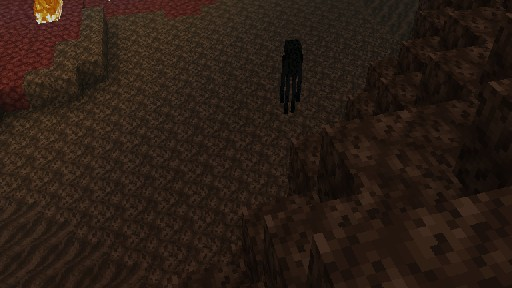enderman: (279, 38, 303, 115)
